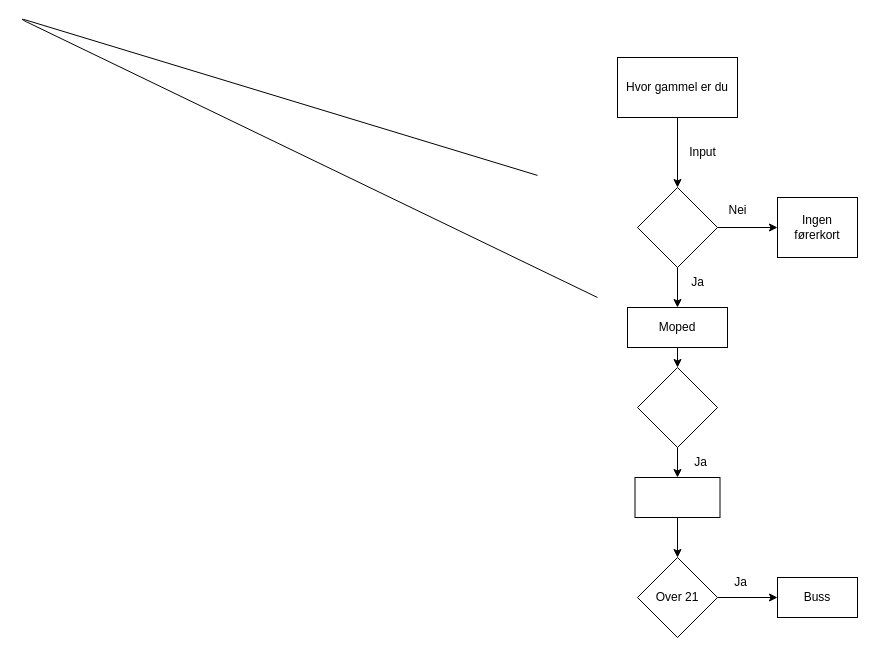
Image size: 875x655. Some labels were removed from this diagram. The shapes that lost their labels are listed below. From the top down, each one's box as (x1, y1, x2, y2) in pixels, then its label:
(636, 186, 718, 268): Over 16
(636, 366, 718, 448): Over 18
(634, 476, 720, 518): Bil
